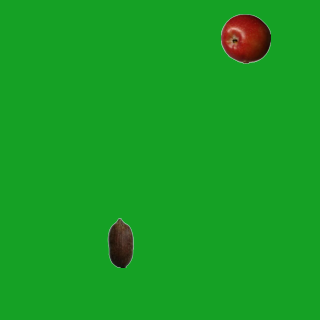Apple Braeburn: (220, 13, 270, 63)
Nut Pecan: (95, 217, 145, 267)
